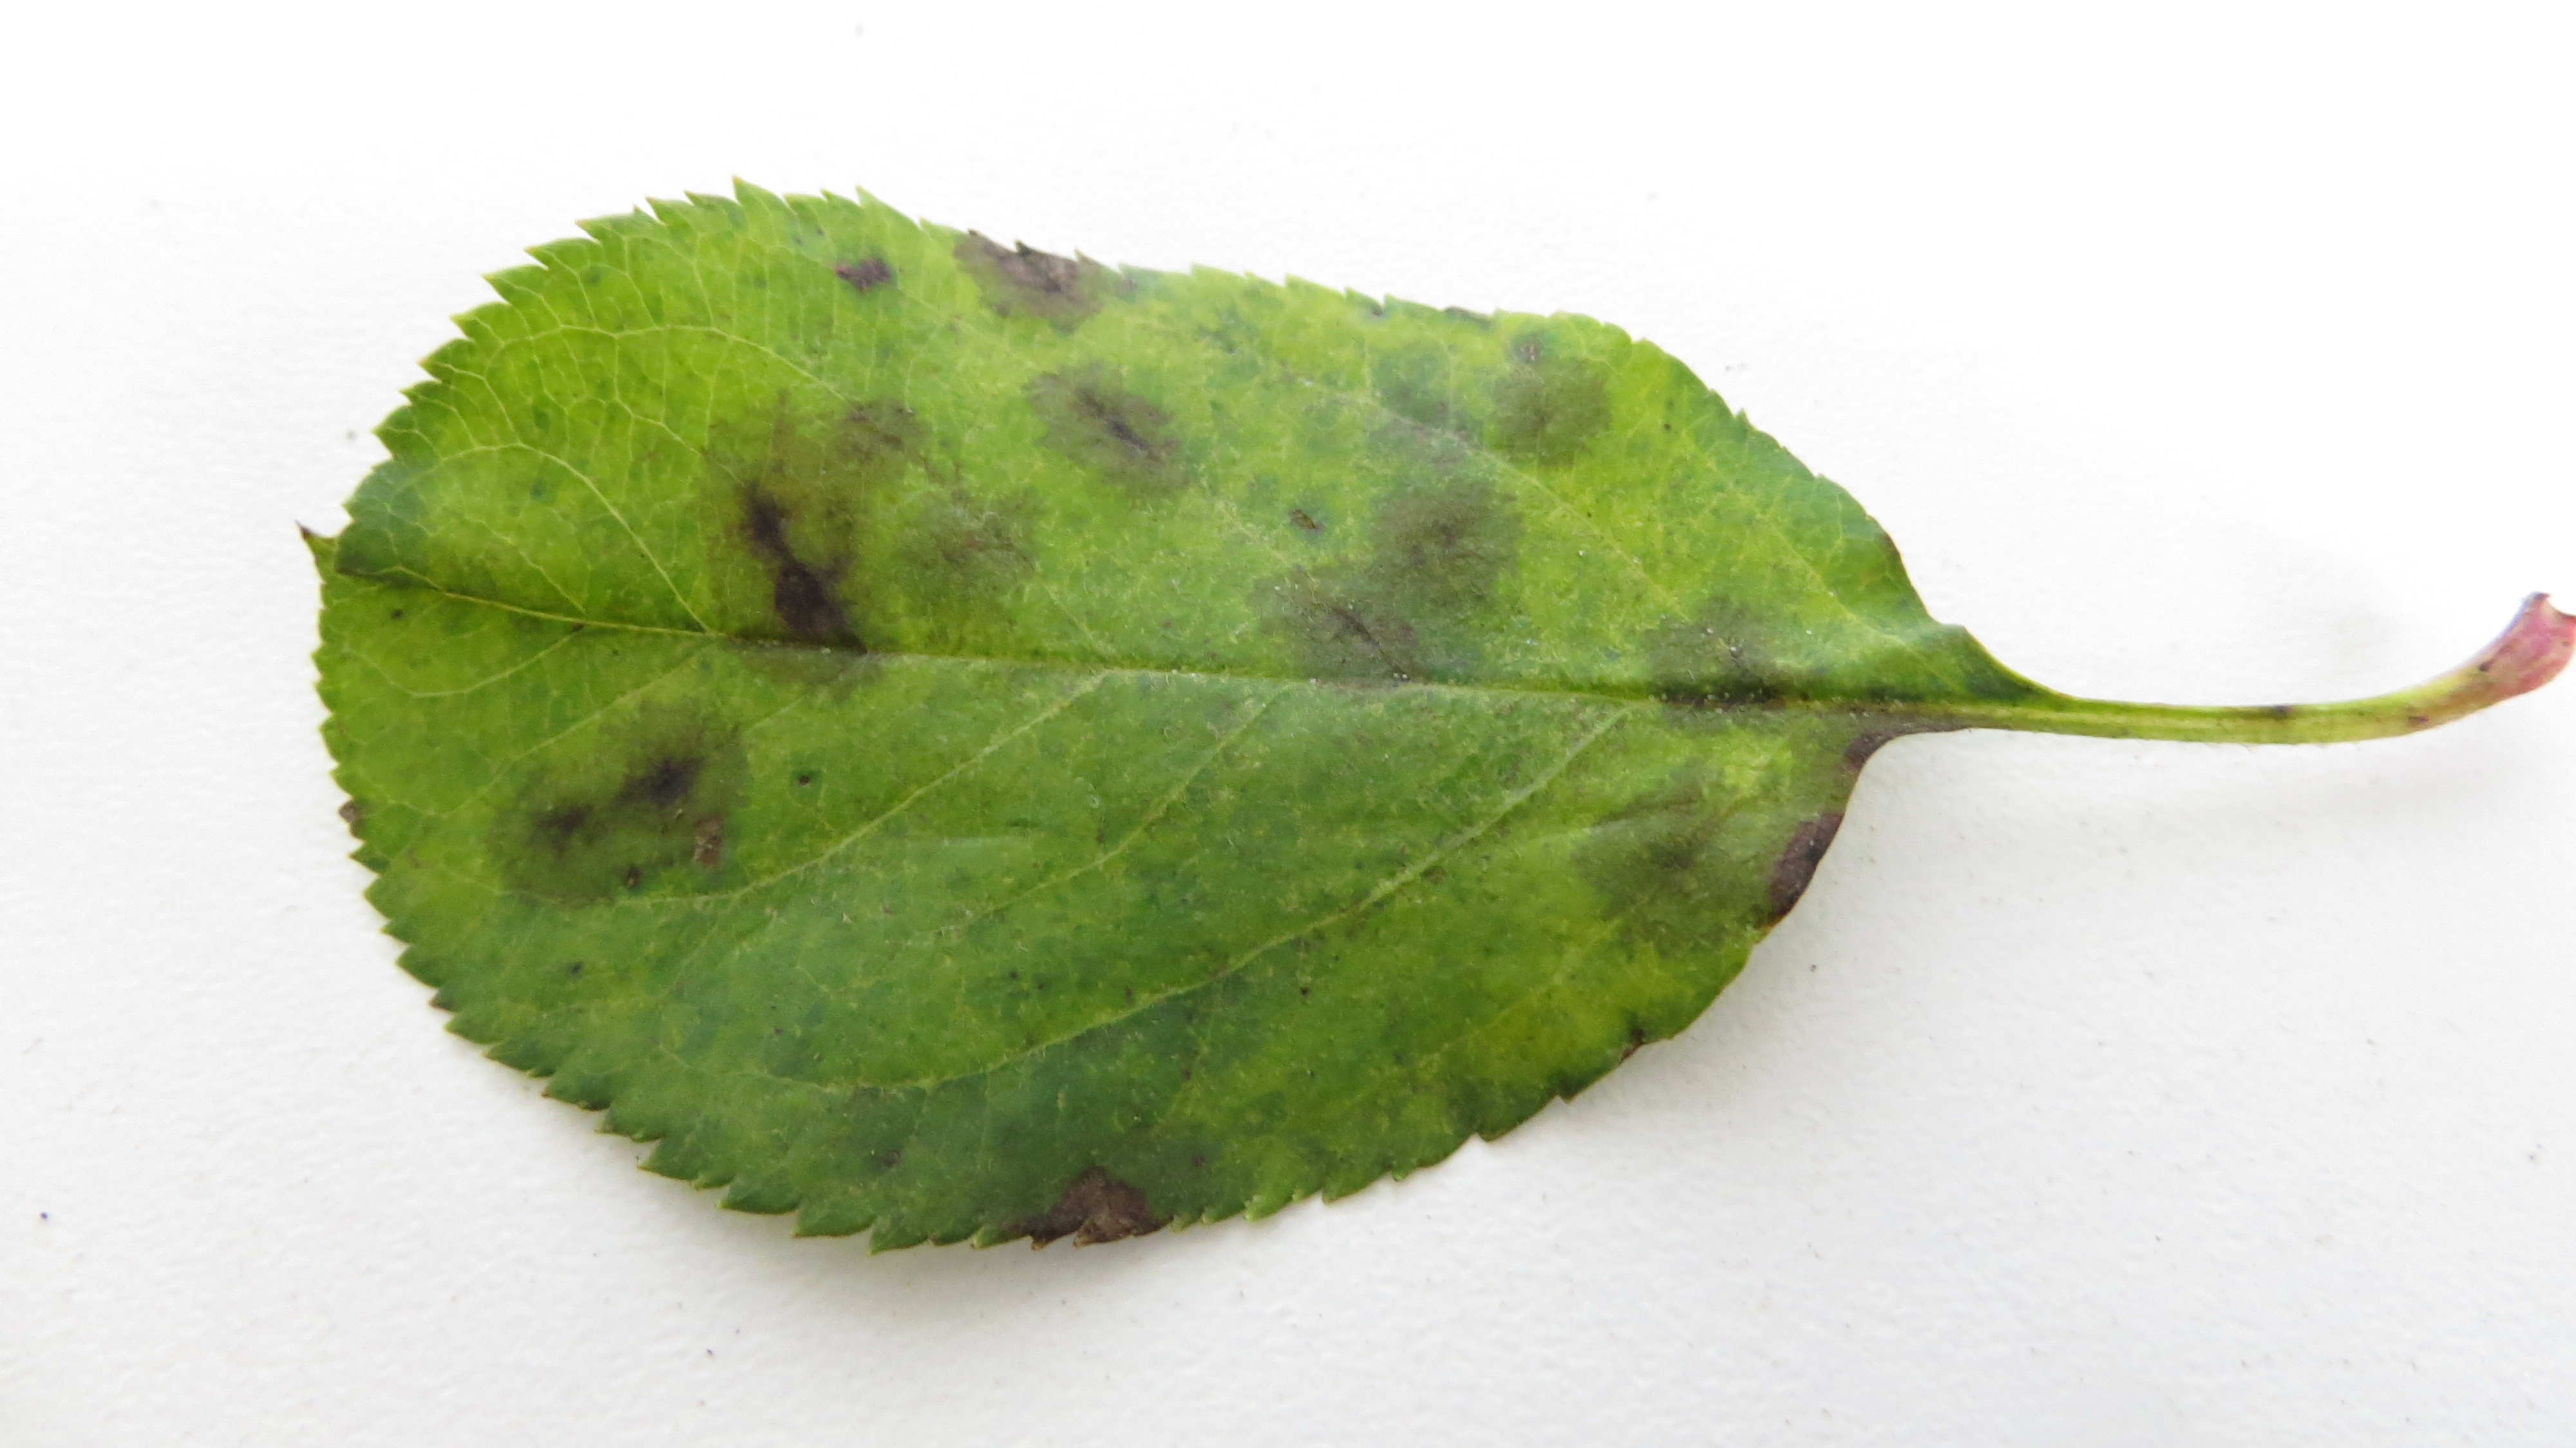sarna: (695, 400, 893, 682), (1580, 751, 1750, 949), (989, 1108, 1171, 1260), (603, 683, 763, 857), (1628, 589, 1798, 736), (1253, 563, 1426, 705), (1028, 365, 1196, 508), (893, 480, 1058, 625), (1368, 469, 1522, 616), (490, 763, 653, 901), (1491, 331, 1614, 483), (962, 225, 1120, 338), (1755, 777, 1838, 933), (824, 389, 939, 494), (1819, 669, 1920, 772), (830, 225, 908, 308)
